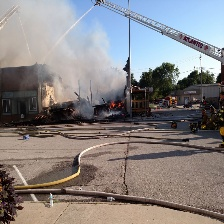fire: (110, 101, 124, 111)
smoke: (1, 1, 125, 99)
